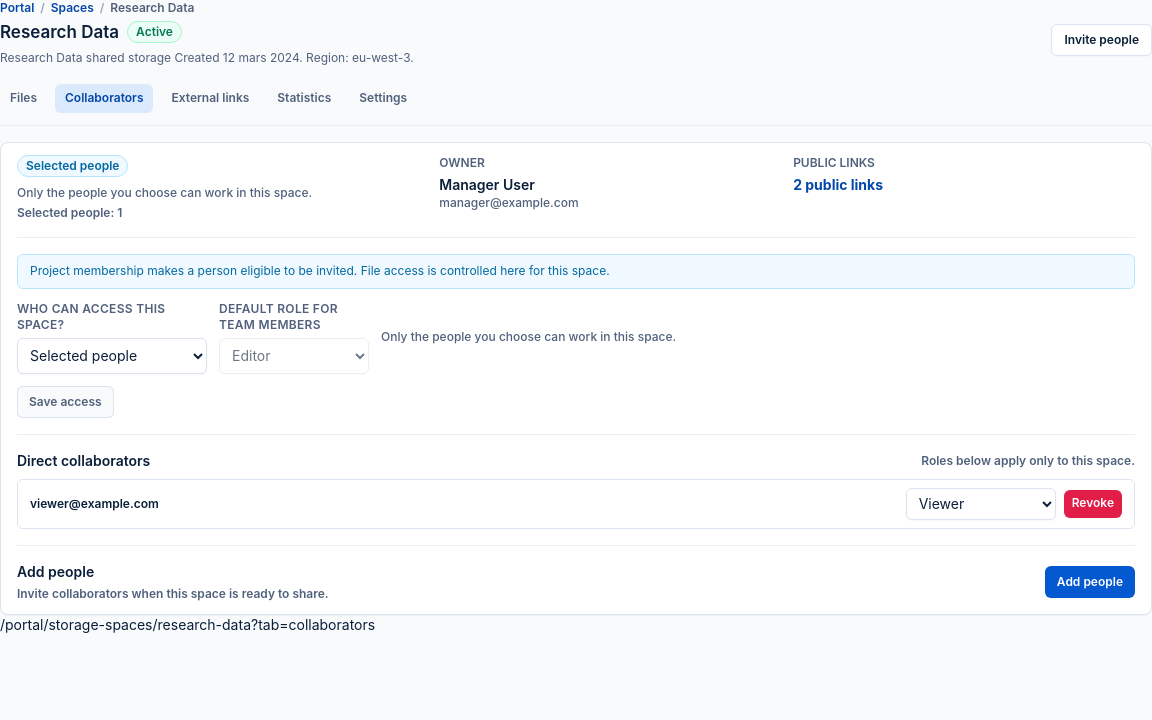
PortalStorageSpaceDetailPage › confirms role changes before applying them to the current space
Expected: the text "Manager User" is shown, [439,176,535,192]
Select "Editor" in the dropdown named "Access for viewer@example.com" at x=981, y=504, box [906,488,1056,520]
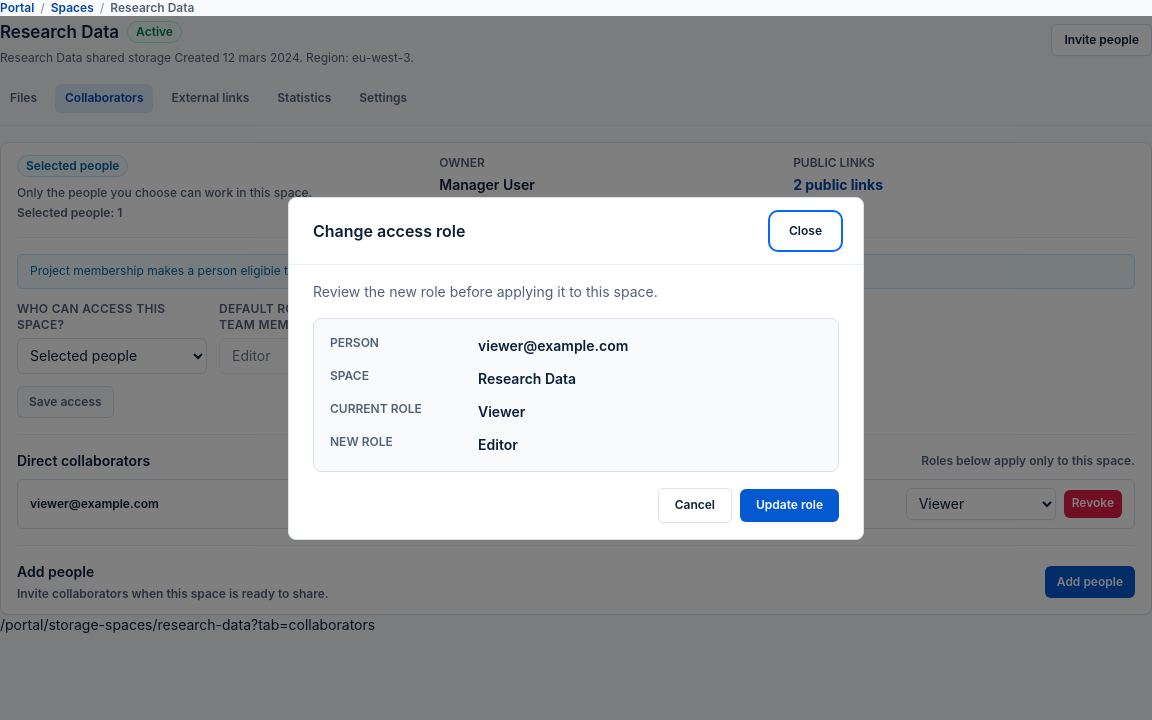
Expected: the text "viewer@example.com" is shown, [478,337,628,354]
Expected: the text "Current role" is shown, [330,401,422,416]
Expected: the text "New role" is shown, [330,434,393,449]
Click the button "Update role" at x=790, y=505, box [740,489,839,522]
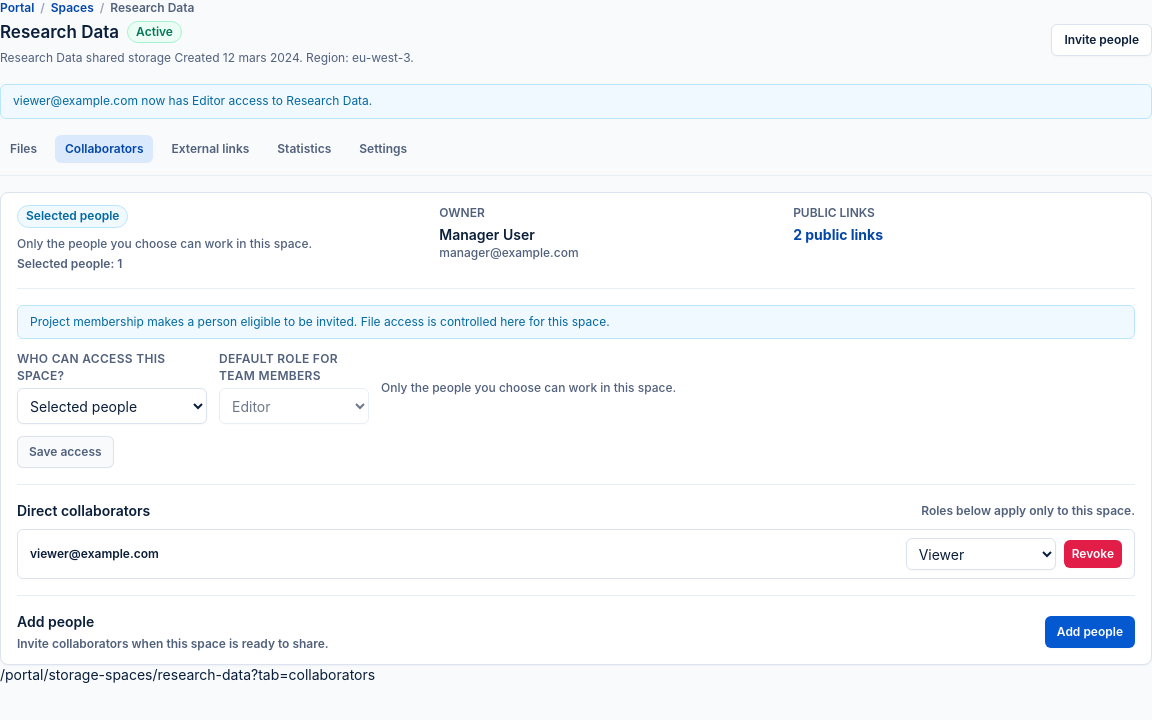
Expected: the text "viewer@example.com now has Editor access to Research Data." is shown, [0,84,1151,118]
